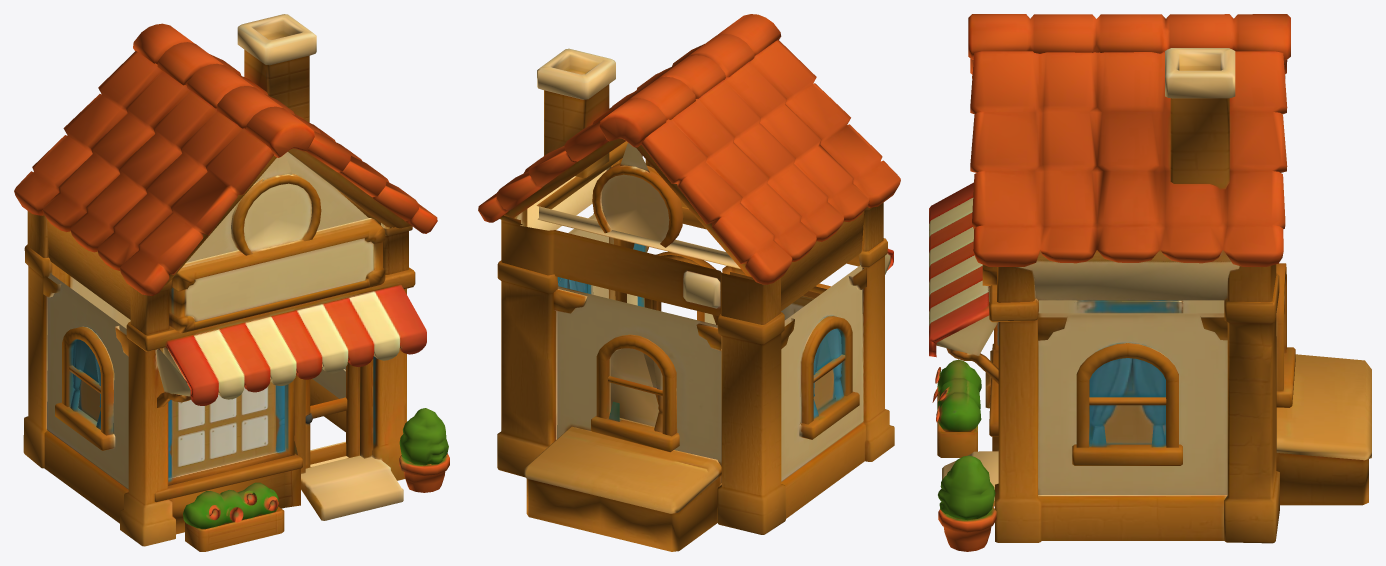
The picture shows the model from 3 angles, left to right: view 1: azimuth 30°, elevation 25°; view 2: azimuth 150°, elevation 25°; view 3: azimuth 270°, elevation 25°; orthographic projection. The views are drawn at different scales.
Visible parts, largest first — view 1: shop-realestate; view 2: shop-realestate; view 3: shop-realestate.
Part boxes in pixels (left/top/right/bottom): shop-realestate: left=14, top=14, right=449, bottom=551; shop-realestate: left=478, top=14, right=900, bottom=551; shop-realestate: left=929, top=14, right=1371, bottom=551.
Size of the model in its own units: 7.3 by 9.18 by 8.07.
1 material, 1 textured.
